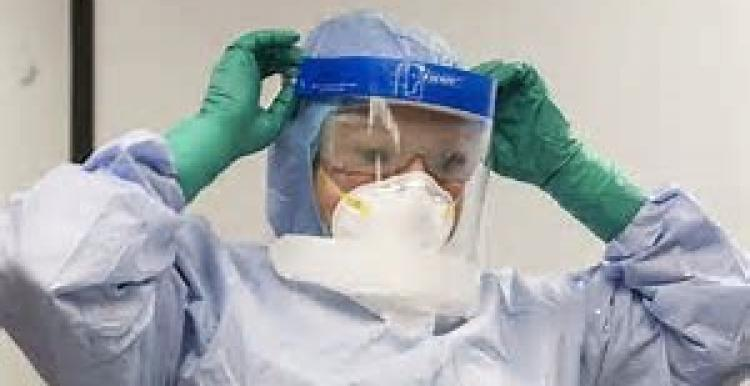glove: (467, 58, 570, 189), (202, 27, 304, 155)
